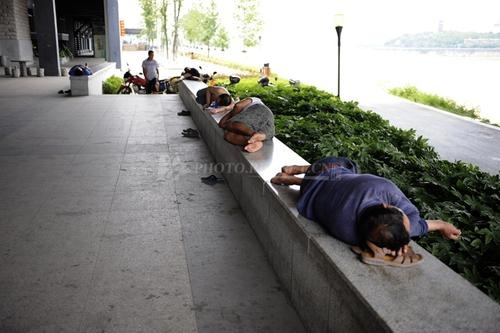falling: (66, 58, 95, 77)
